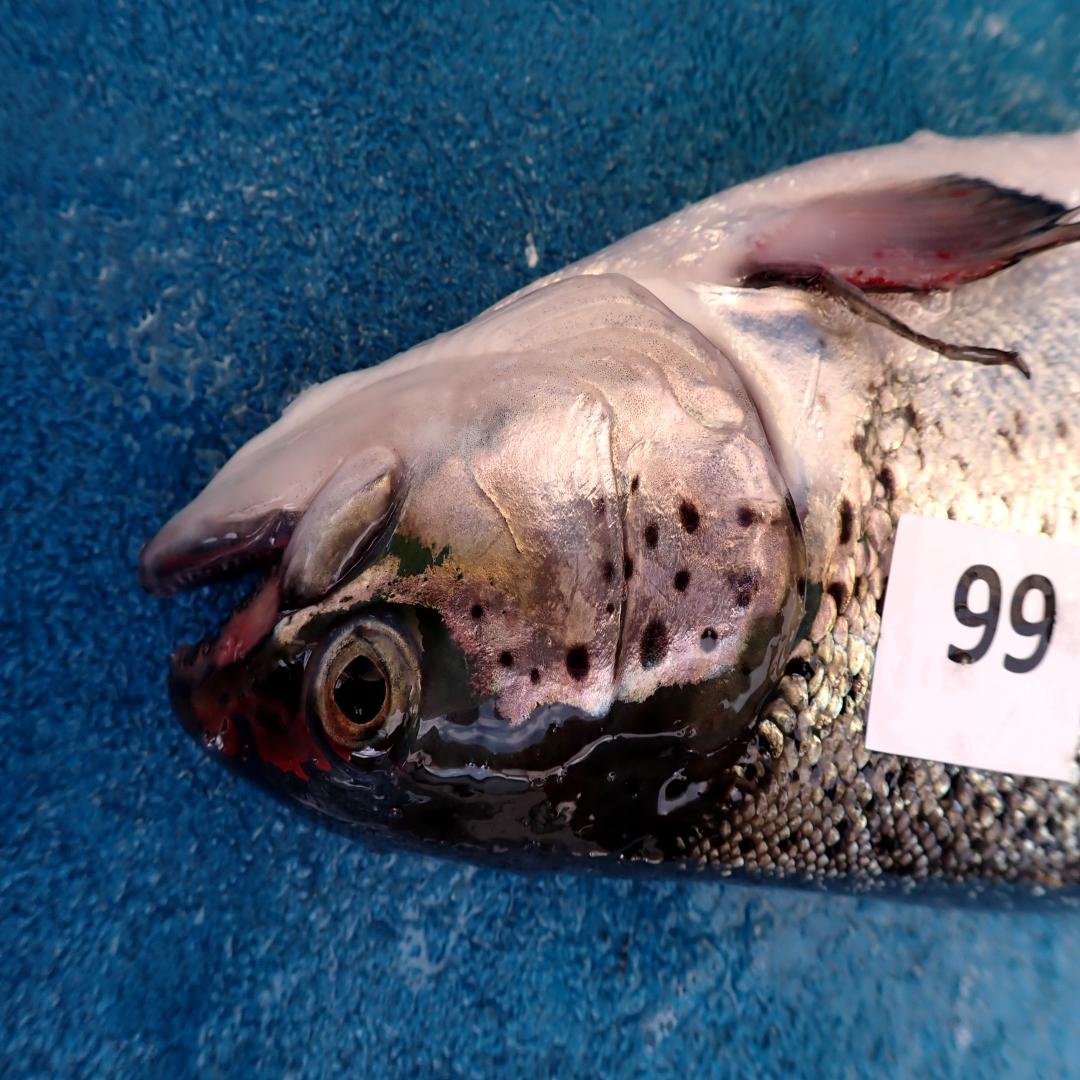roi: (403, 262, 795, 727)
